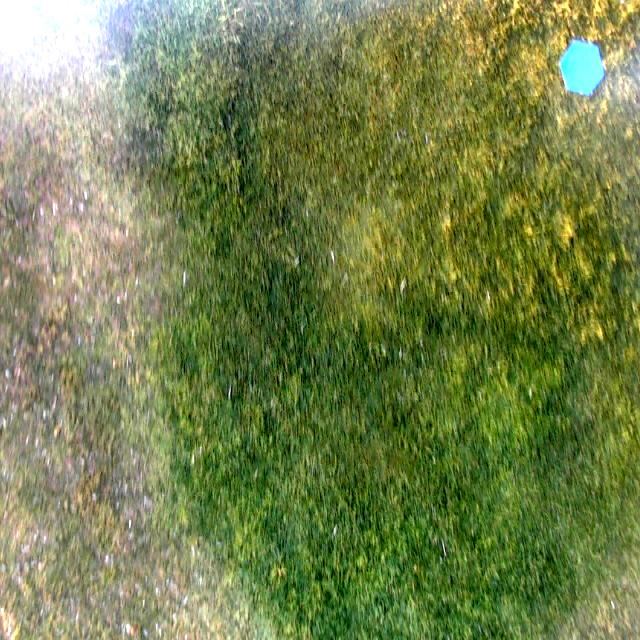blue_hexagon: (561, 39, 605, 94)
